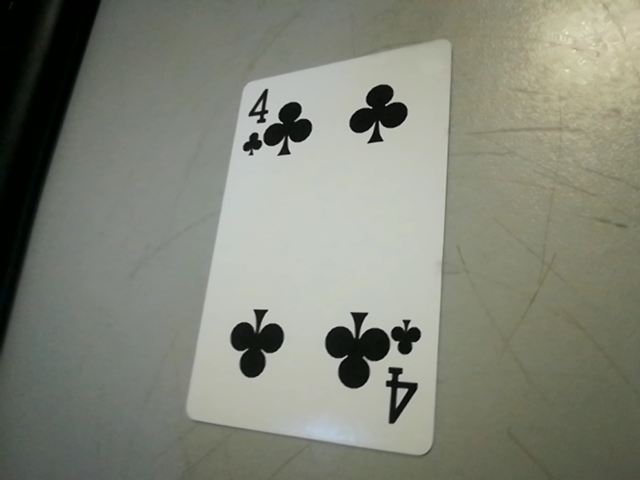mh 4: (380, 312, 433, 436), (231, 91, 279, 161)
